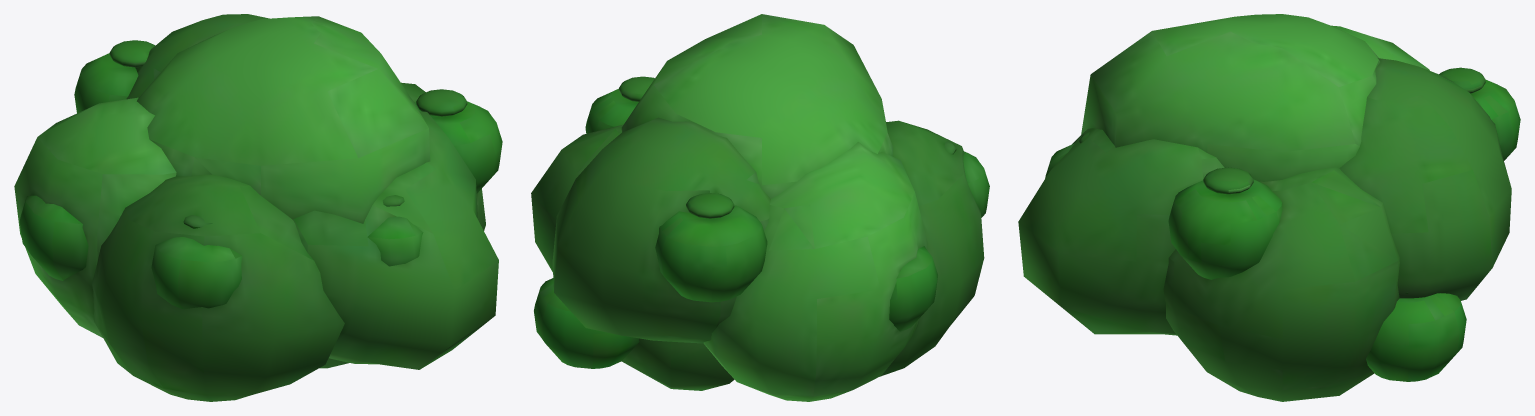
File: crop_jalapeno.glb
3 renders of one model, left to right at view 1: azimuth 30°, elevation 25°; view 2: azimuth 150°, elevation 25°; view 3: azimuth 270°, elevation 25°, orthographic. The views are drawn at different scales.
Visible parts, largest first — view 1: crop_jalapeno, fruit; view 2: crop_jalapeno, fruit; view 3: crop_jalapeno, fruit.
Part boxes in pixels (box(x1,y1,x2,y2)): crop_jalapeno: box(14, 14, 498, 401); fruit: box(19, 53, 502, 309); crop_jalapeno: box(531, 14, 984, 401); fruit: box(534, 88, 989, 368); crop_jalapeno: box(1018, 14, 1511, 401); fruit: box(1045, 80, 1520, 381).
Size of the model in its own units: 0.2659 by 0.2091 by 0.275.
Materials: 1 (1 with a texture image).
